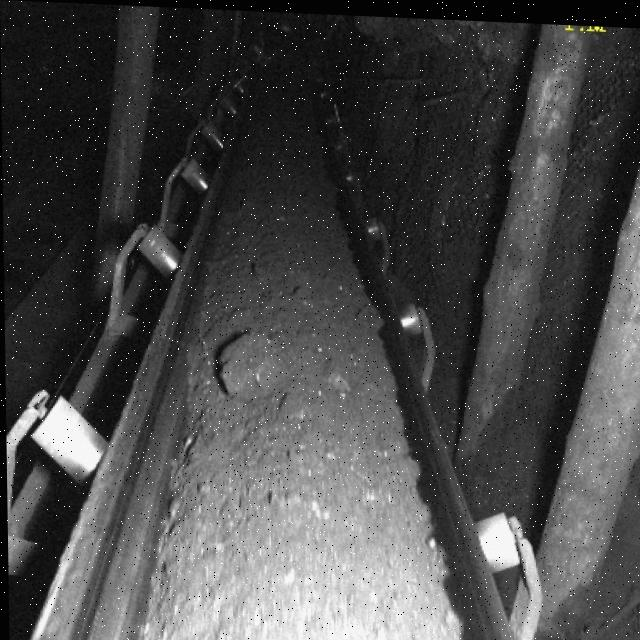large_sized_coal: (218, 332, 276, 399)
